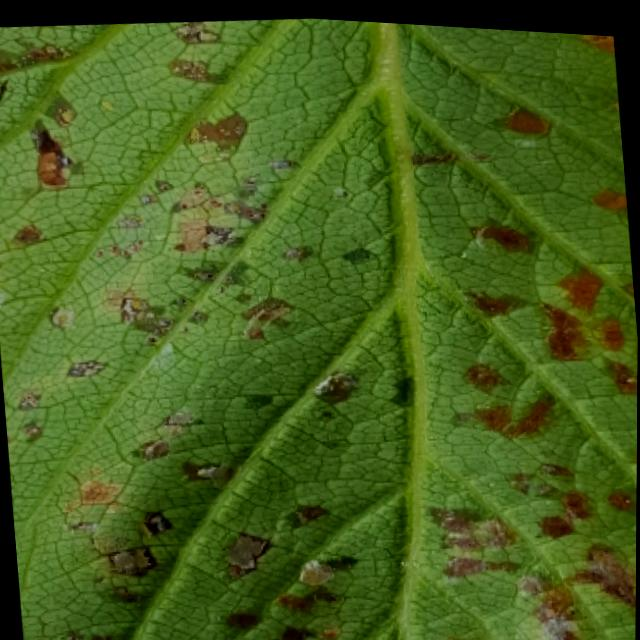Angular Leafspot: (0, 14, 638, 640)
